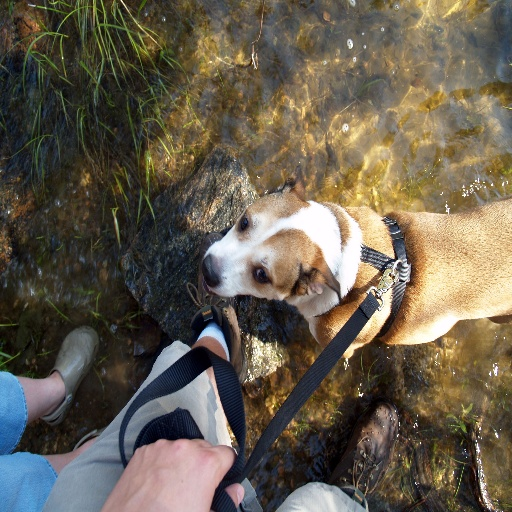hand: (108, 435, 250, 505)
